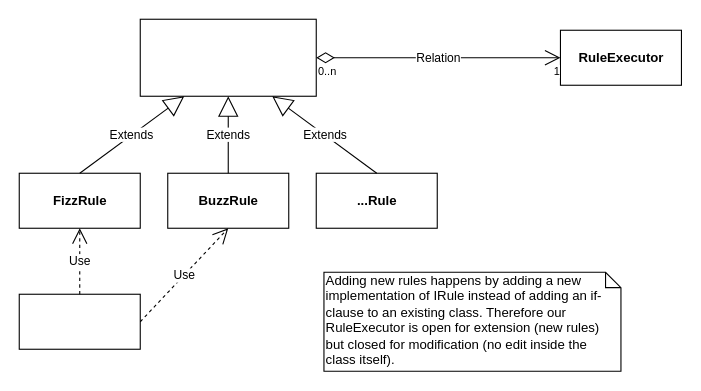
Image size: 701x391. Some labels were removed from this diagram. Here are the shapes that lost their labels. From the top down, the centre of each, then its label:
At point 227,57: "IRule +string Word +bool Matches(int number)".
At point 79,321: "FizzBuzzRule".
